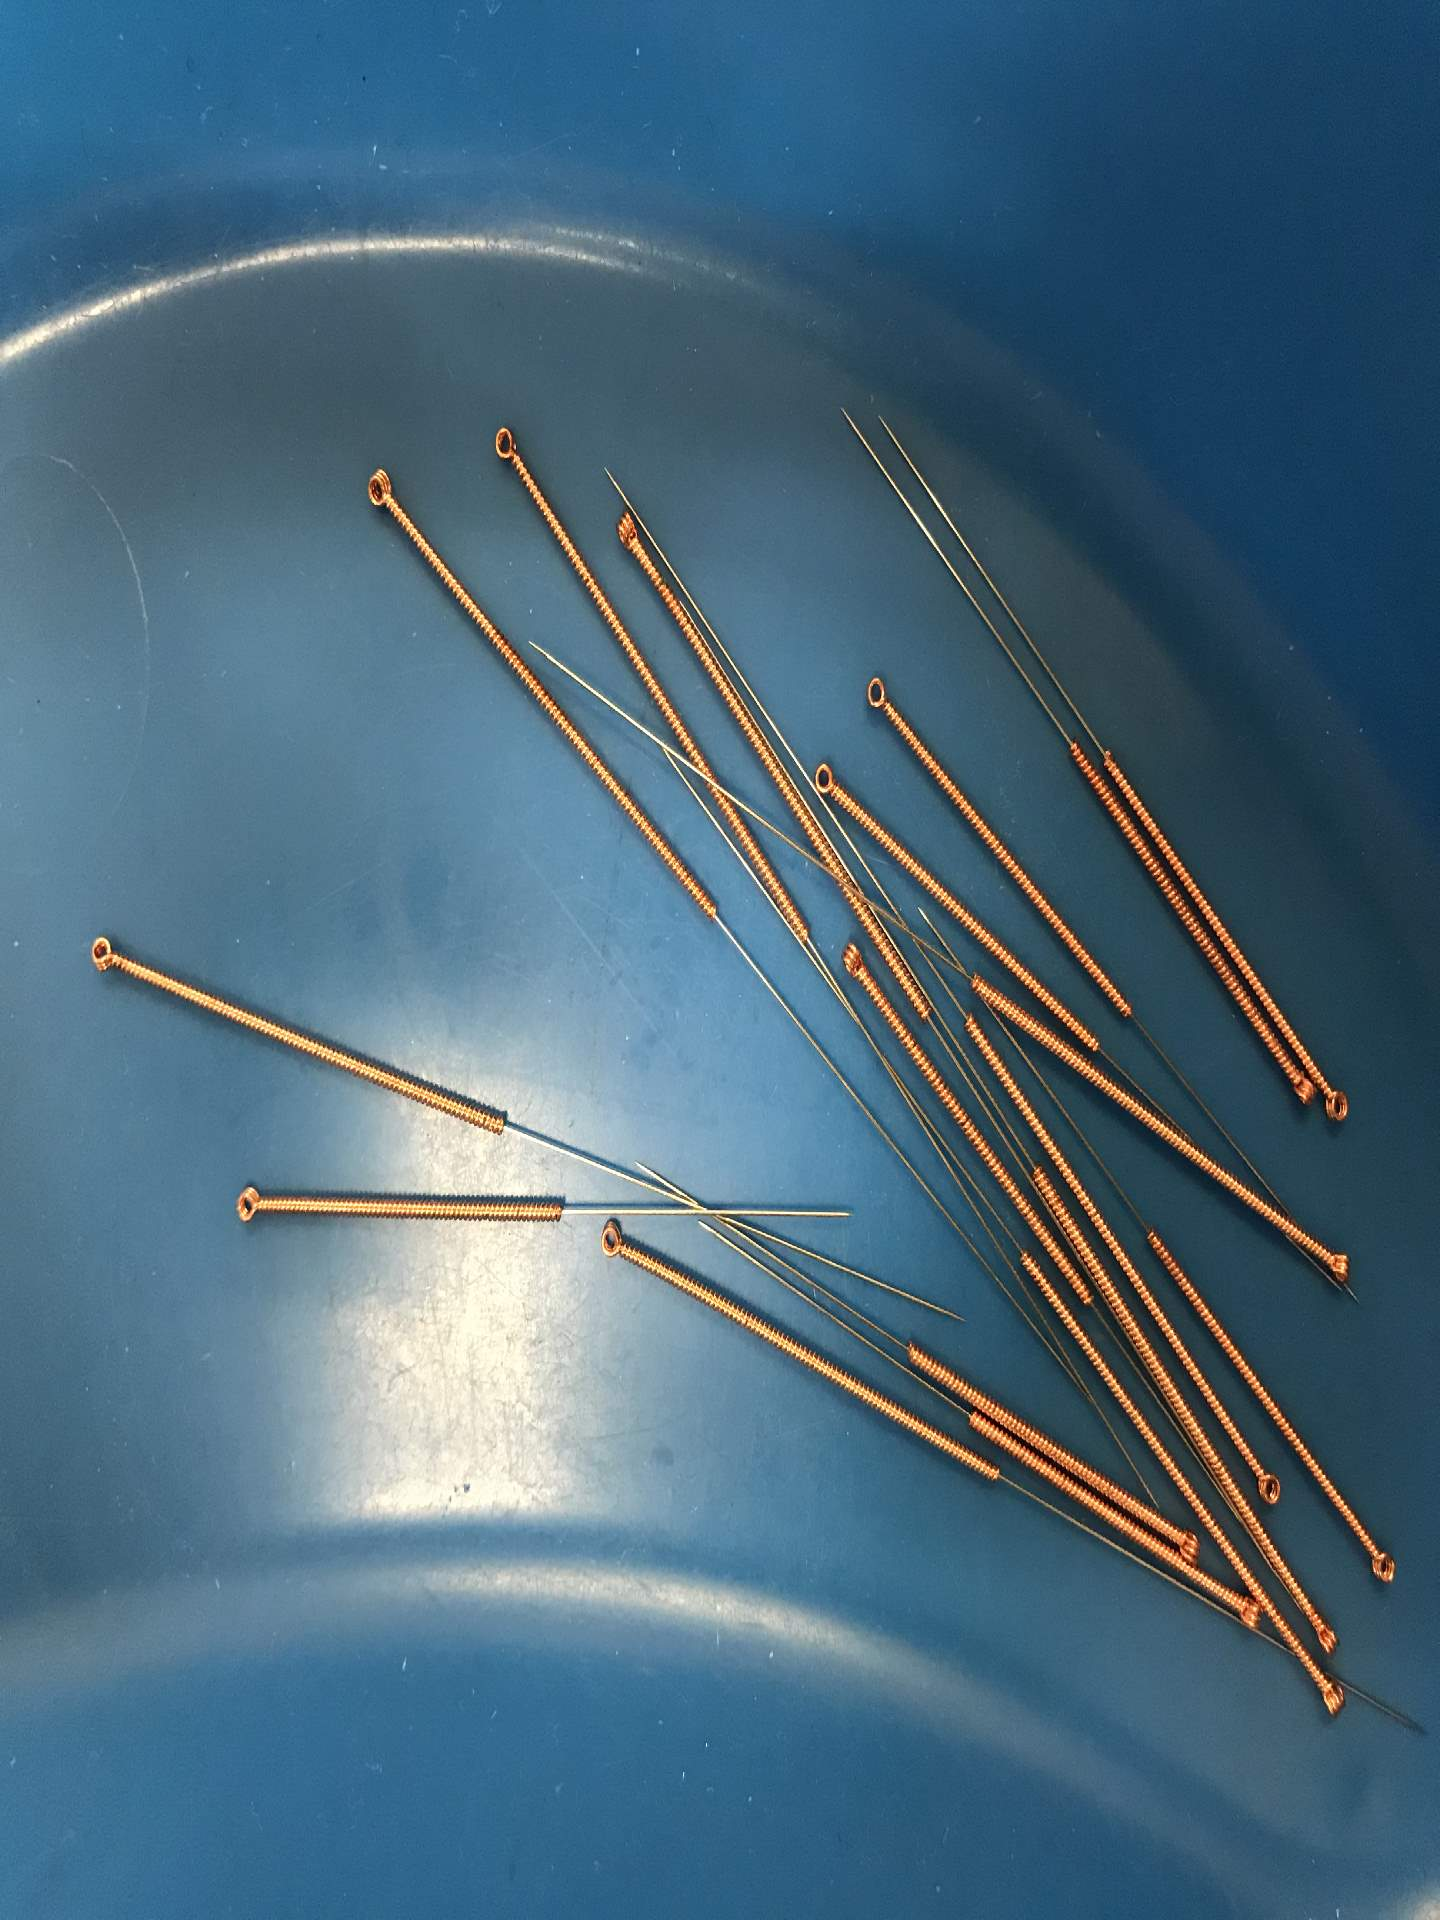needle: (219, 1175, 274, 1238), (77, 924, 132, 986), (1304, 1668, 1355, 1726), (355, 460, 405, 520), (483, 416, 532, 476), (1355, 1534, 1405, 1593), (601, 502, 650, 561), (590, 1212, 638, 1268), (853, 665, 898, 723), (1311, 1237, 1360, 1290), (1302, 1606, 1346, 1661), (1243, 1462, 1290, 1513), (1319, 1073, 1355, 1135), (805, 754, 847, 804), (835, 934, 871, 983), (1224, 1596, 1268, 1634), (1283, 1067, 1317, 1113), (1172, 1524, 1206, 1566)
